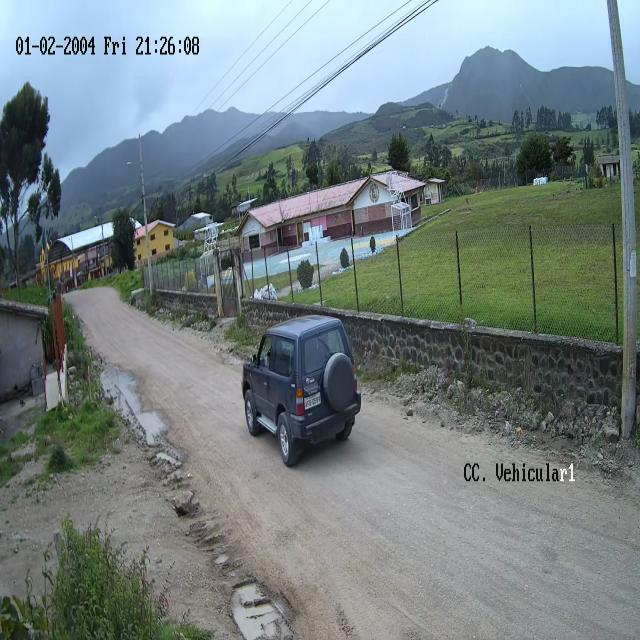SUV: (242, 318, 362, 469)
